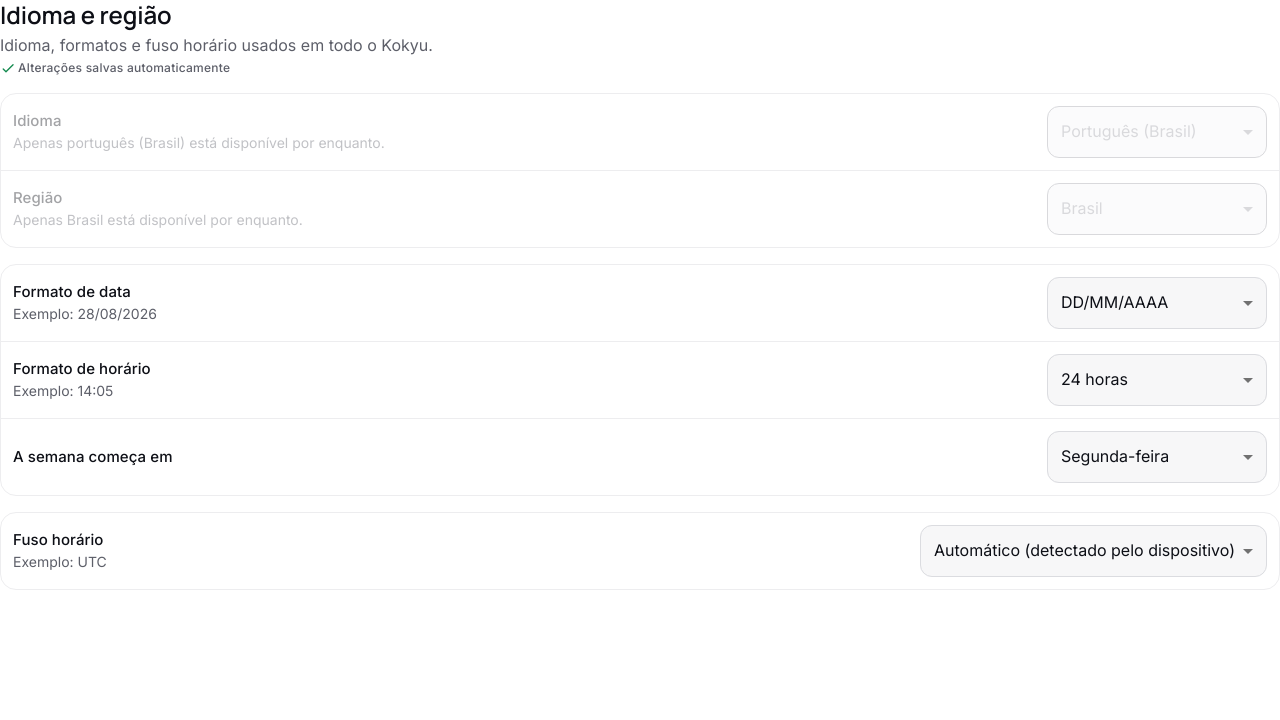
Scenario: LocaleSettings › changes "Formato de horário"
Click the dropdown named "Formato de horário" at (1094, 379), box [1061,369,1128,389]
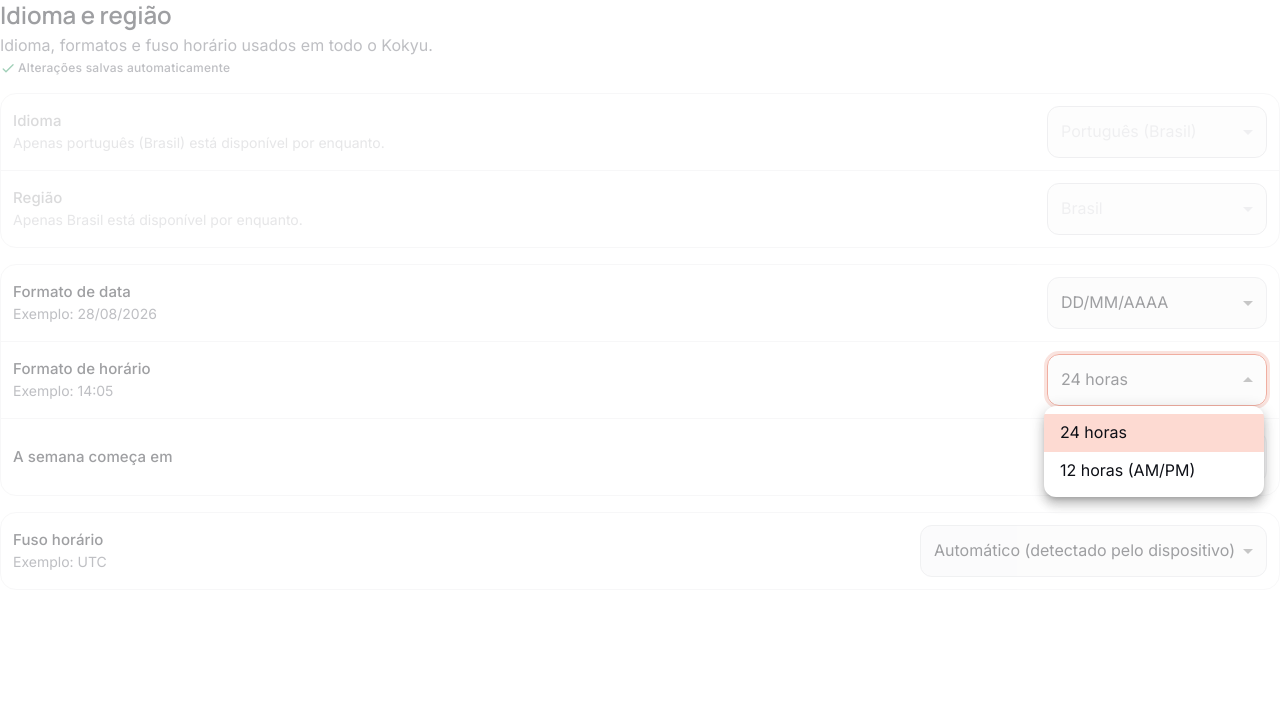
Click the option "12 horas (AM/PM)" at (1128, 470), box [1060,460,1195,480]
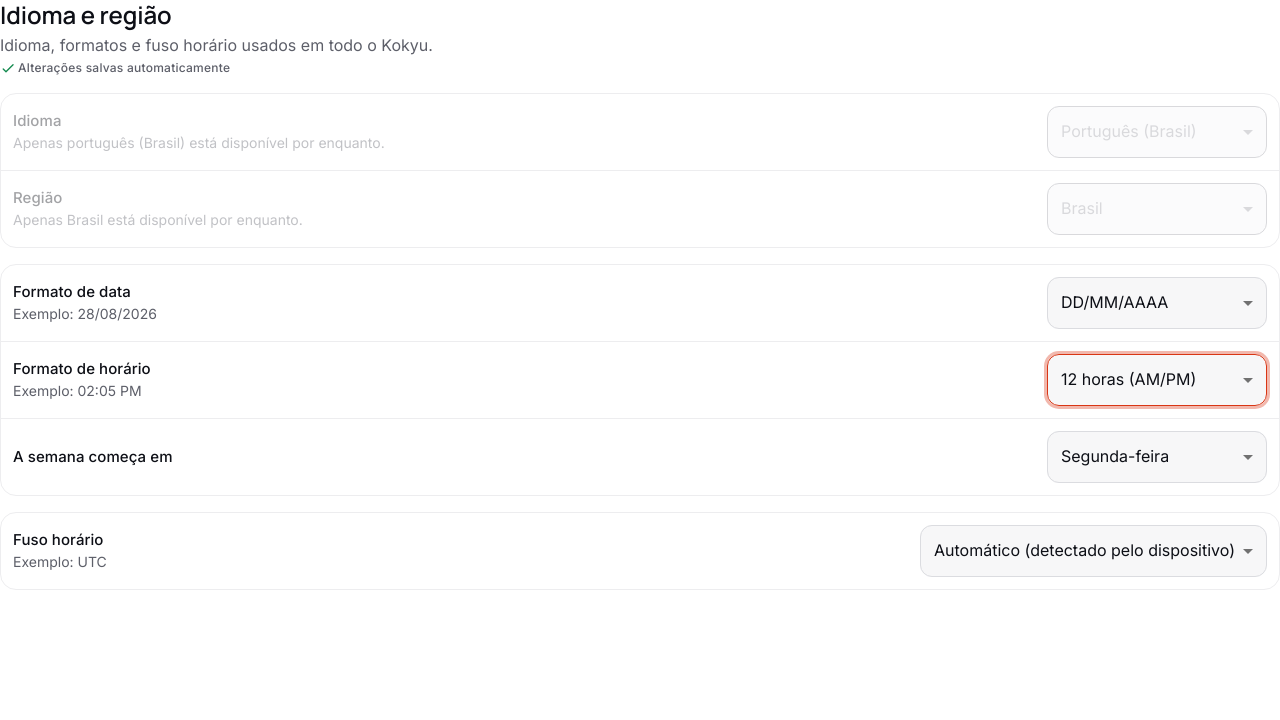
Check: the dropdown named "Formato de horário" reads "12 horas (AM/PM)", box [1061,369,1196,389]
